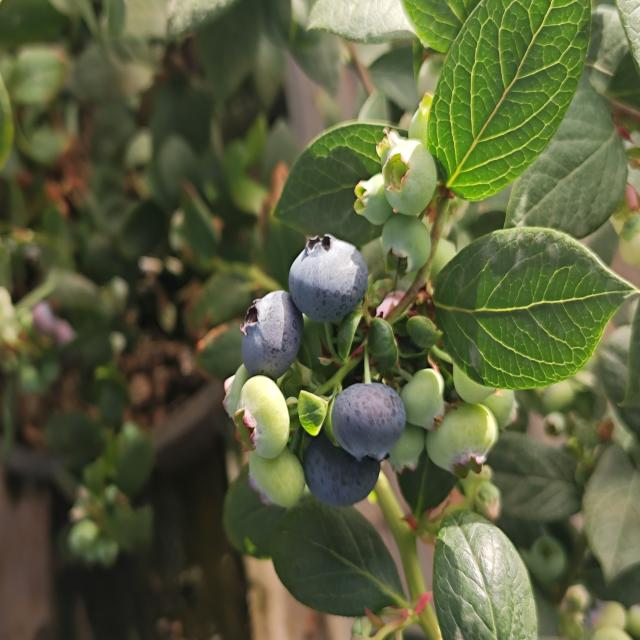ripe: (288, 225, 370, 328), (327, 378, 413, 469), (234, 288, 312, 383), (303, 437, 382, 524)
